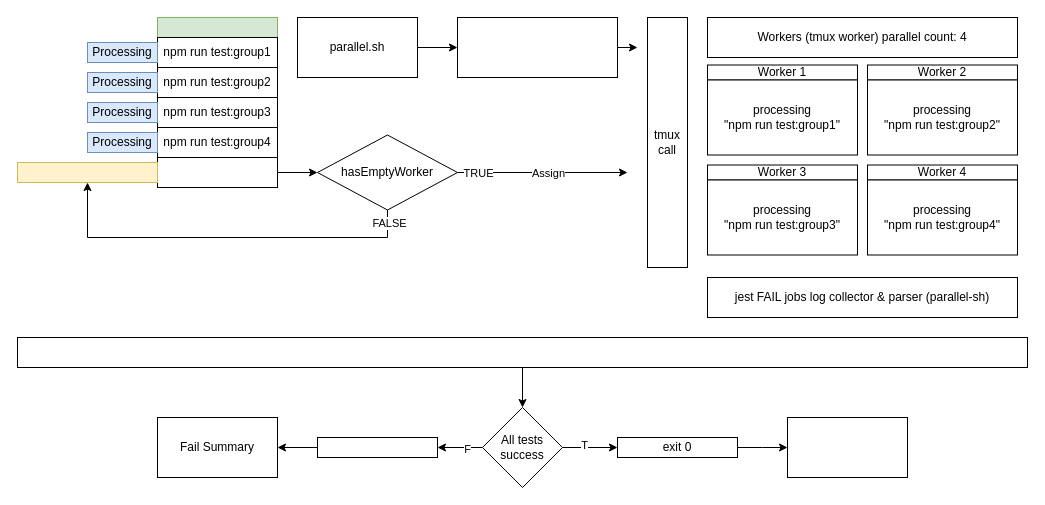
The diagram is 1045 pixels wide and 505 high, and some of its shapes have lost their labels. The shapes that lost their labels are listed below. From the top down, each one's centre as x and y in pixels, then its label:
At point 217,27: "JOBS".
At point 537,47: "Create tmux sessions (parallel count:4)".
At point 87,172: "Waiting for empty worker".
At point 217,172: "npm run test:group5".
At point 522,352: "OnCompleted".
At point 377,447: "exit 1".
At point 847,447: "Success Summary".
